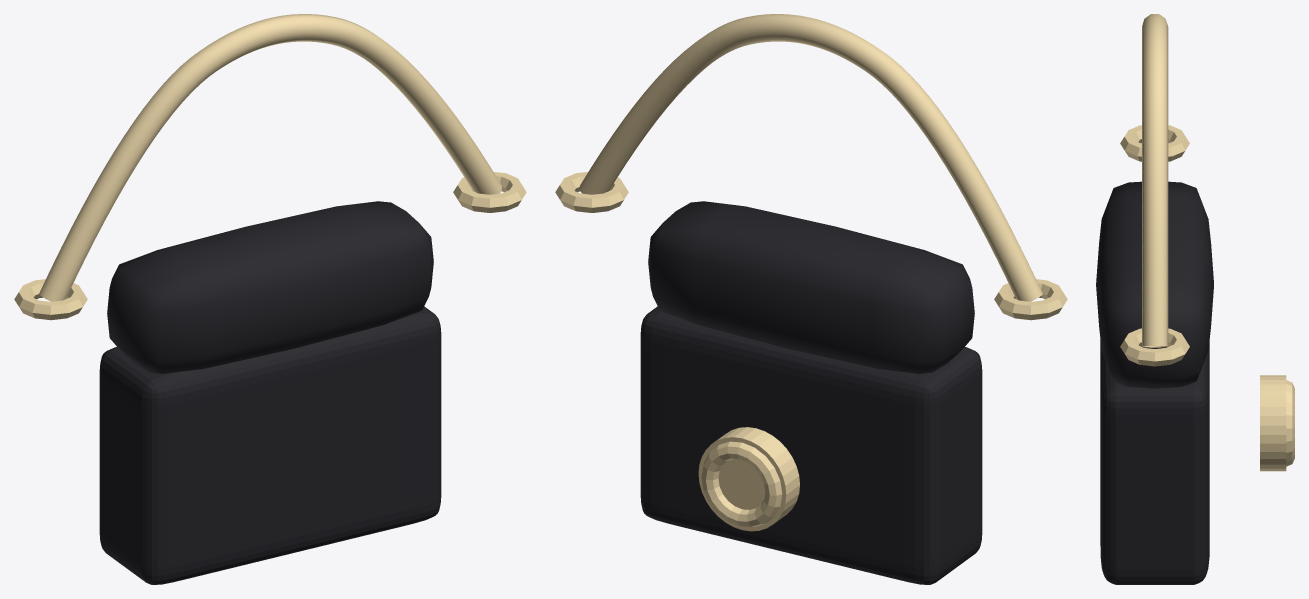
Rendered from bag.glb.
3 views of the same model, side by side, from view 1: azimuth 30°, elevation 25°; view 2: azimuth 150°, elevation 25°; view 3: azimuth 270°, elevation 25° (orthographic). The views are drawn at different scales.
Parts seen in each view (by area): view 1: bag, Cube, handle, Torus.001, Torus.002; view 2: bag, Cube, handle, Cylinder, Torus, Torus.001, Torus.002; view 3: bag, Cube, handle, Cylinder, Torus.002, Torus.001, Torus.
Boxes of the visible parts, left/top/right/bottom form: bag: left=99, top=306, right=441, bottom=584; Cube: left=107, top=201, right=433, bottom=373; handle: left=39, top=14, right=501, bottom=301; Torus.001: left=14, top=279, right=87, bottom=320; Torus.002: left=453, top=172, right=526, bottom=212; bag: left=640, top=306, right=982, bottom=584; Cube: left=648, top=201, right=974, bottom=373; handle: left=580, top=14, right=1042, bottom=301; Cylinder: left=698, top=427, right=799, bottom=531; Torus: left=701, top=441, right=782, bottom=526; Torus.001: left=994, top=279, right=1067, bottom=320; Torus.002: left=555, top=172, right=628, bottom=212; bag: left=1100, top=340, right=1209, bottom=584; Cube: left=1096, top=181, right=1213, bottom=388; handle: left=1142, top=14, right=1168, bottom=347; Cylinder: left=1260, top=375, right=1286, bottom=471; Torus.002: left=1120, top=328, right=1189, bottom=366; Torus.001: left=1120, top=125, right=1189, bottom=161; Torus: left=1286, top=380, right=1294, bottom=466.
Bounding box in the file's own units: 0.252 × 0.2482 × 0.091.
